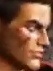kevin: (3, 0, 50, 70)
